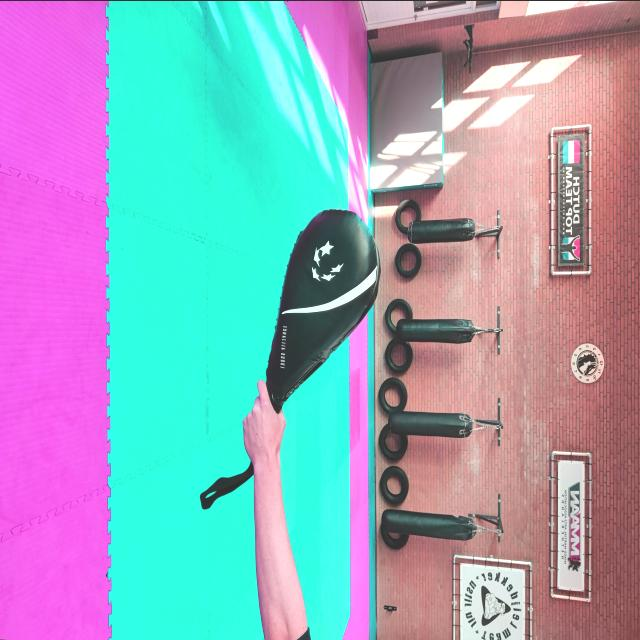paddle: (264, 206, 384, 413)
